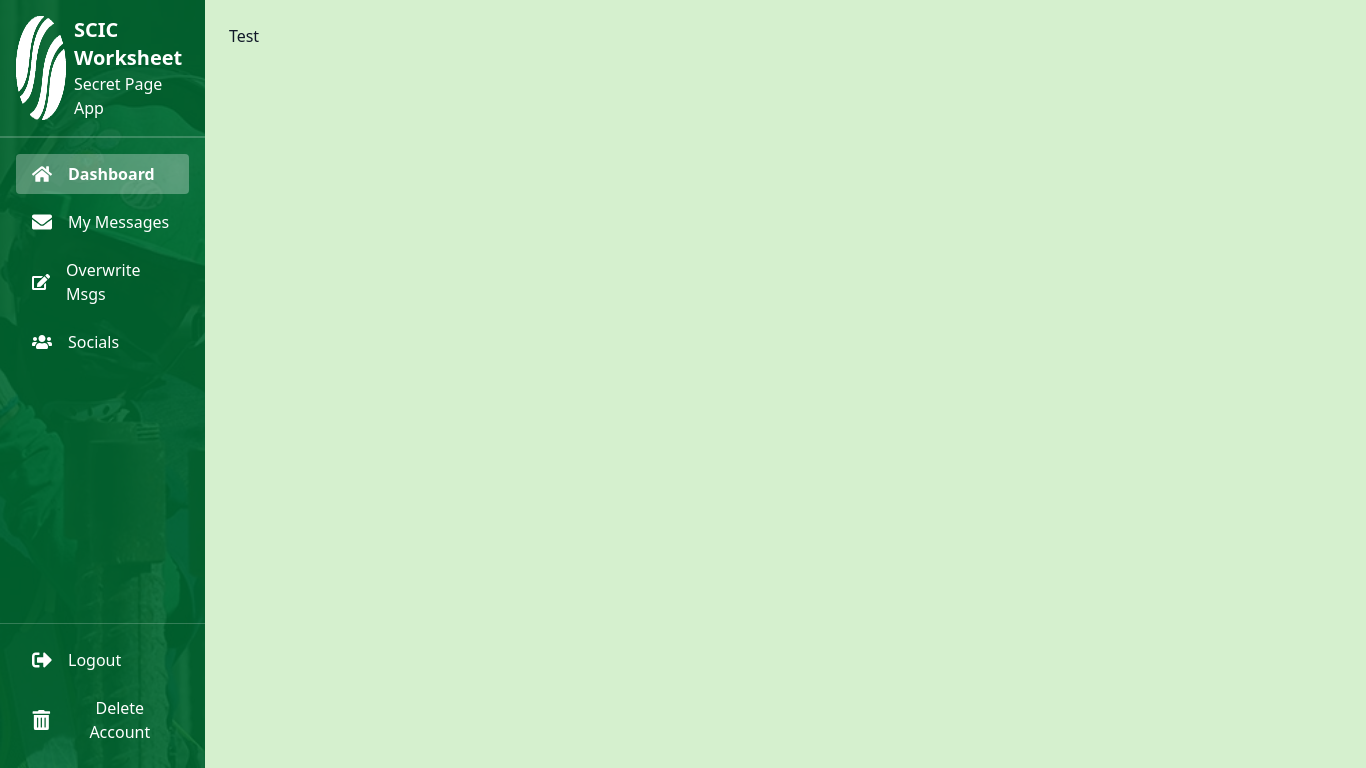
it: Navigation › opens logout modal when Logout is clicked
Click the button "Logout" at coordinates (102, 660), box [16, 640, 189, 680]
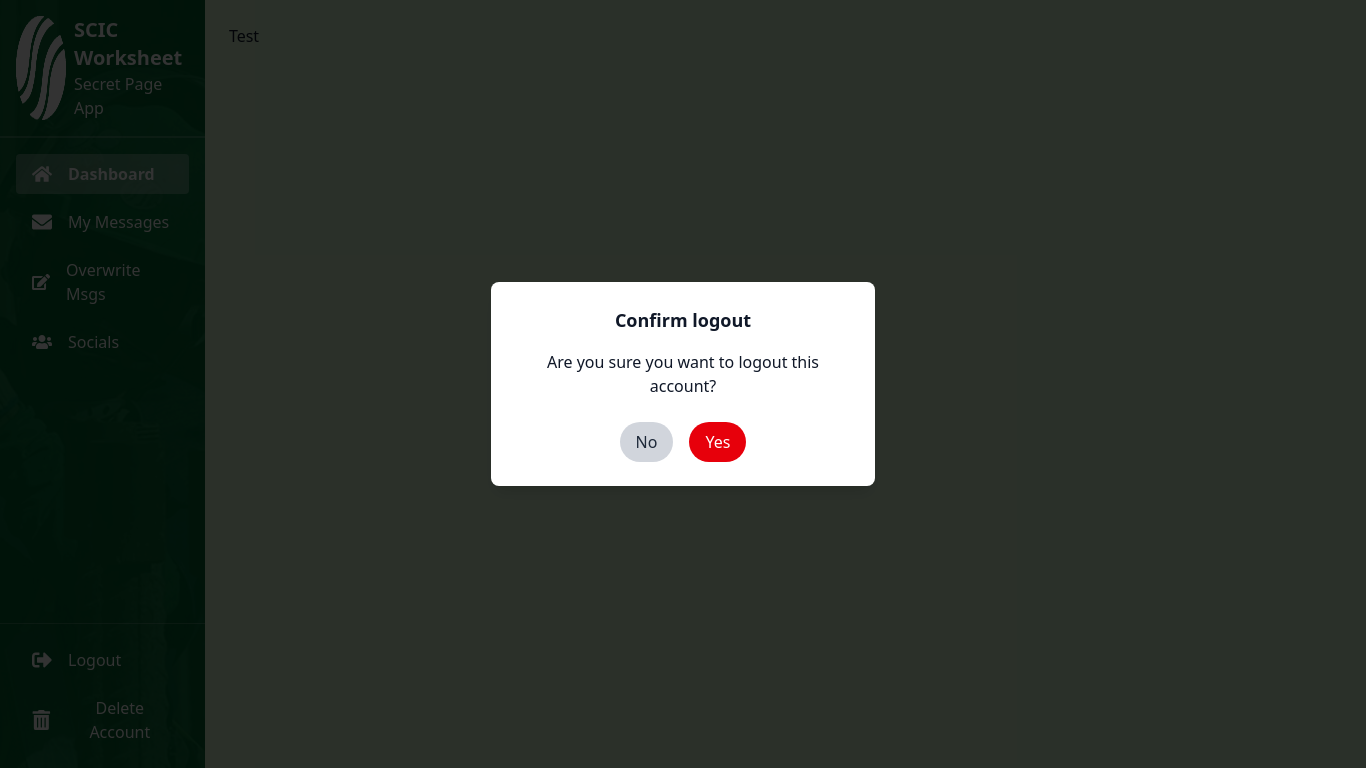
Check: the text "Are you sure you want to logout this account?" is shown, box [547, 351, 819, 397]
